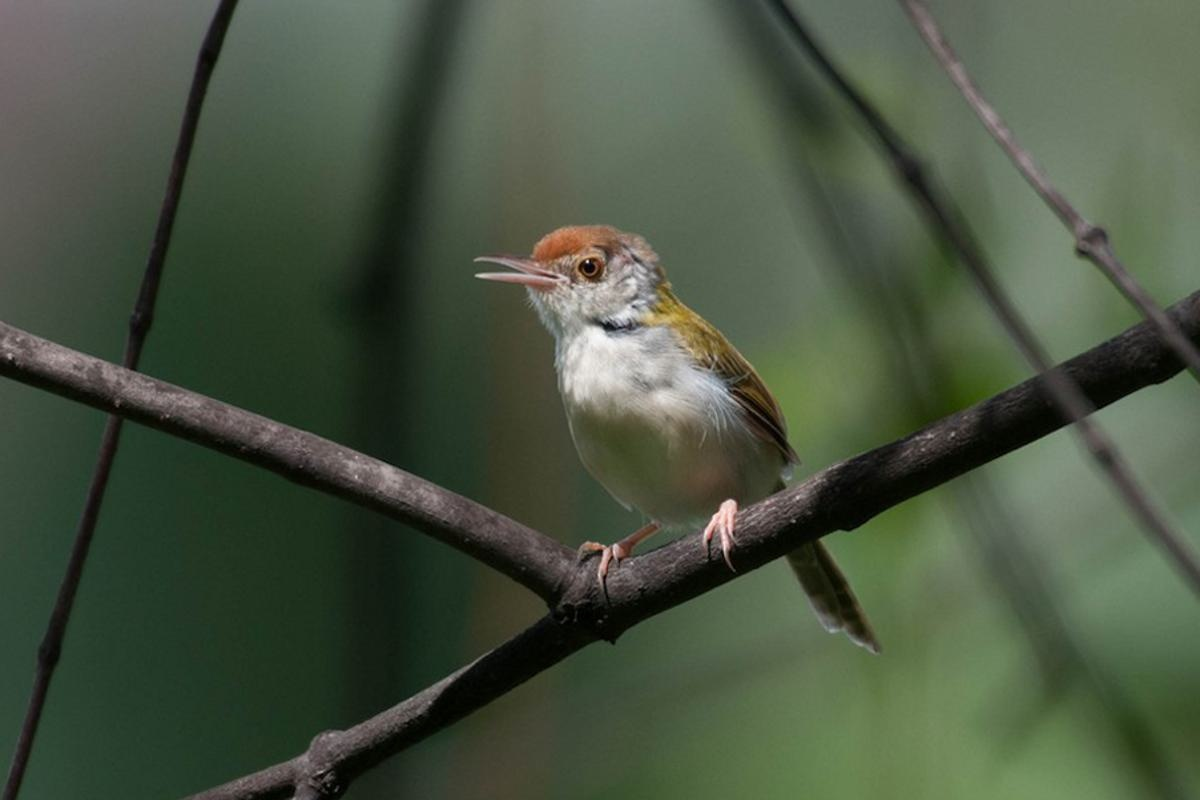tailorbird: (450, 164, 953, 718)
